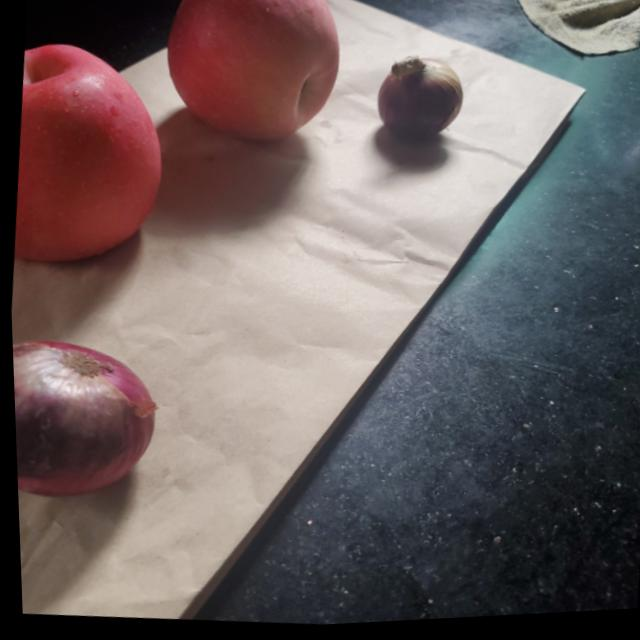apple: (5, 28, 172, 271), (153, 0, 351, 148)
onion: (10, 337, 160, 507), (374, 55, 465, 147)
